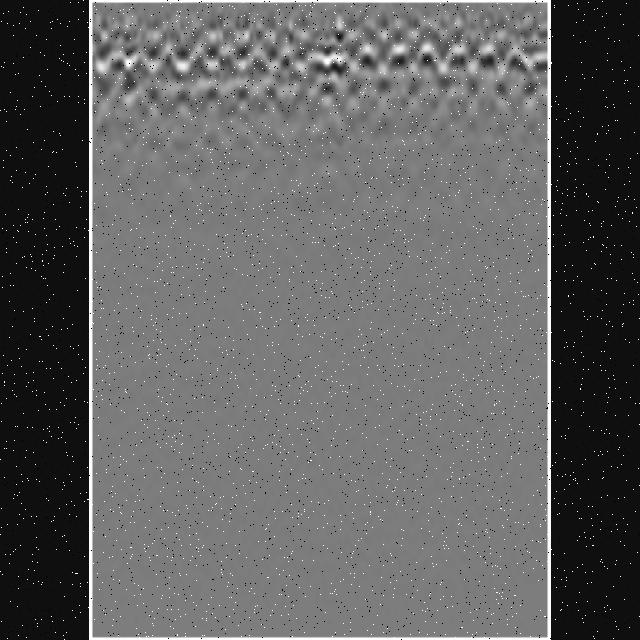hyperbola: (373, 44, 422, 84), (350, 38, 390, 82), (410, 37, 448, 83), (439, 41, 478, 84), (174, 42, 222, 76), (206, 42, 248, 78), (148, 42, 192, 76), (470, 38, 504, 80), (237, 40, 275, 76), (500, 44, 536, 82), (99, 45, 137, 81), (270, 46, 308, 80), (298, 48, 334, 82), (125, 47, 157, 83)
